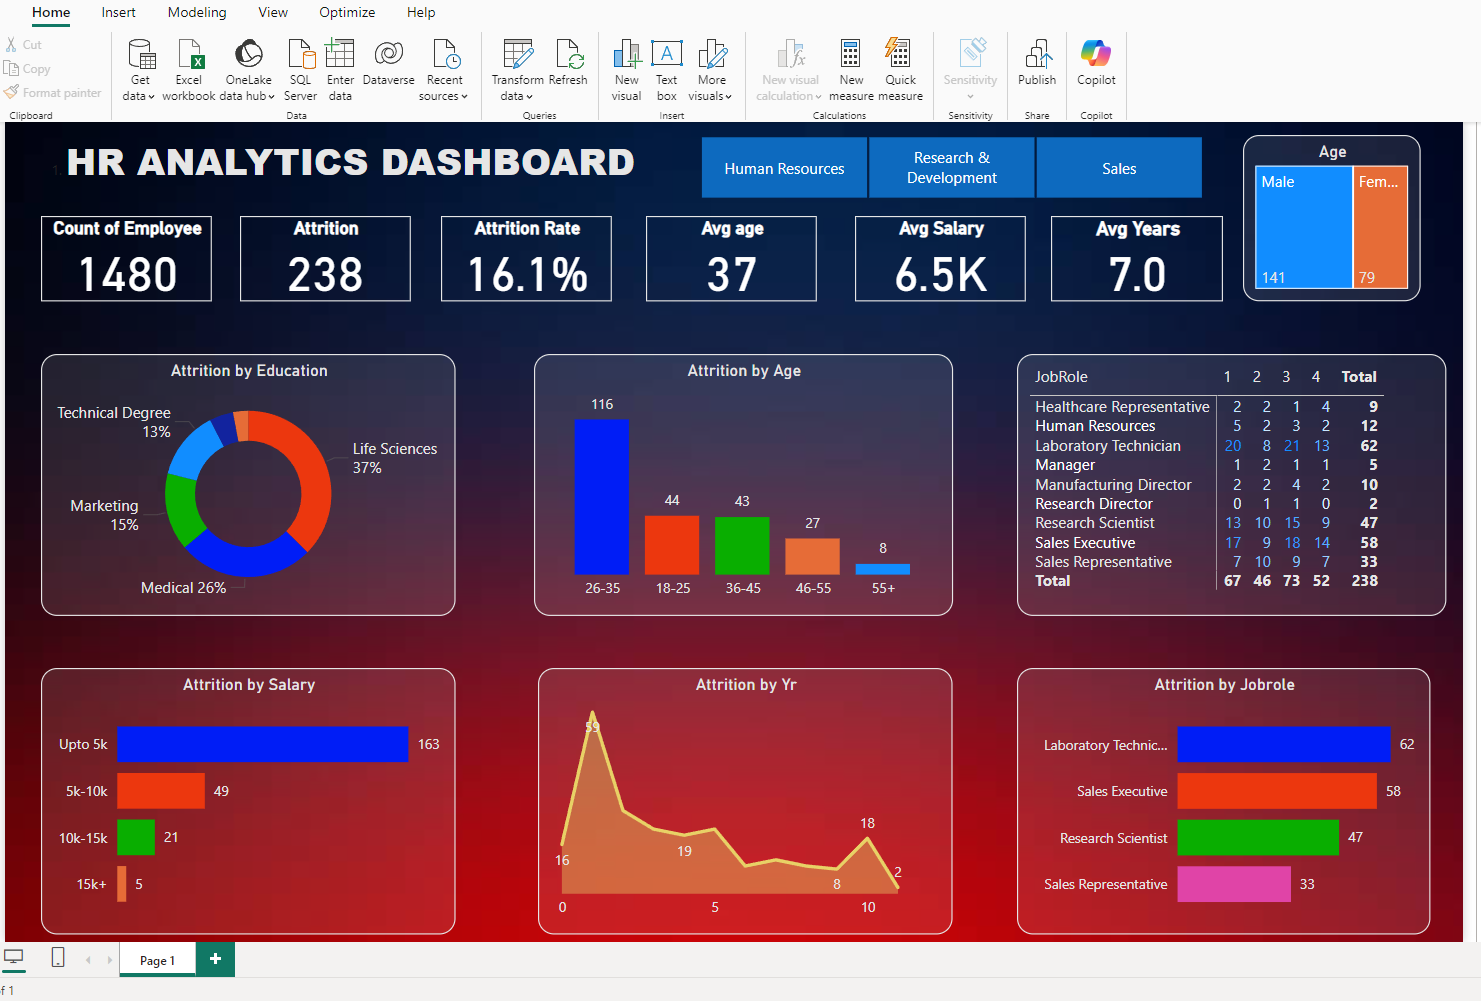

Layout of this report page (visuals, bound fields, positions):
{"tool":"powerbi","page":{"name":"Page 1","canvas":[1280,720],"ordinal":0},"visuals":[{"type":"card","title":"Count of Employee","fields":{"Values":["CountNonNull(HR_Analytics.EmpID)"]},"box":[31.5,82.9,150.4,74.8],"z":0},{"type":"card","title":"Attrition","fields":{"Values":["Sum(HR_Analytics.AttritionCount)"]},"box":[206.3,82.9,149.5,74.8],"z":1000},{"type":"card","title":"Attrition Rate","fields":{"Values":["HR_Analytics.AttriotionRate"]},"box":[383.1,82.7,150.2,74.6],"z":2000},{"type":"card","title":"Avg age ","fields":{"Values":["Avg(HR_Analytics.Age)"]},"box":[563,82.9,150.4,74.8],"z":3000},{"type":"card","title":"Avg Salary ","fields":{"Values":["Avg(HR_Analytics.MonthlyIncome)"]},"box":[746.8,82.7,150.2,74.6],"z":4000},{"type":"card","title":"Avg Years","fields":{"Values":["Avg(HR_Analytics.YearsAtCompany)"]},"box":[918.4,82.7,151.2,74.6],"z":5000},{"type":"donutChart","title":"Attrition by Education","fields":{"Category":["HR_Analytics.EducationField"],"Y":["Sum(HR_Analytics.AttritionCount)"]},"box":[31.5,203.6,363.9,229.7],"z":6000},{"type":"columnChart","title":"Attrition by Age","fields":{"Category":["HR_Analytics.AgeGroup"],"Y":["Sum(HR_Analytics.AttritionCount)"]},"box":[464.8,203.6,367.5,229.7],"z":7000},{"type":"pivotTable","fields":{"Rows":["HR_Analytics.JobRole"],"Columns":["HR_Analytics.JobSatisfaction"],"Values":["Sum(HR_Analytics.AttritionCount)"]},"box":[888.2,203.6,376.5,229.7],"z":8000},{"type":"barChart","title":"Attrition by Salary","fields":{"Category":["HR_Analytics.SalarySlab"],"Y":["Sum(HR_Analytics.AttritionCount)"]},"box":[31.7,479.1,363.7,233.9],"z":9000},{"type":"barChart","title":"Attrition by Jobrole","fields":{"Y":["Sum(HR_Analytics.AttritionCount)"],"Category":["HR_Analytics.JobRole"]},"box":[888.2,479.2,363,234.2],"z":10000},{"type":"areaChart","title":"Attrition by Yr","fields":{"Category":["HR_Analytics.YearsAtCompany"],"Y":["Sum(HR_Analytics.AttritionCount)"]},"box":[468.4,479.2,363.9,234.2],"z":11000},{"type":"treemap","title":"Age","fields":{"Group":["HR_Analytics.Gender"],"Values":["Sum(HR_Analytics.AttritionCount)"]},"box":[1087.2,11.7,155.8,145.9],"z":12000},{"type":"slicer","fields":{"Values":["HR_Analytics.Department"]},"box":[590.9,11.7,479.2,56.7],"z":13000},{"type":"textbox","box":[31.5,8.1,559.4,60.4],"z":14000}]}

Visuals, with their boxes on the page's 1280x720 design canvas (x1, y1, x2, y2). These are canvas units, not pixel positions in the 1481x1001 screenshot, which may show the page scaled, cropped or inside an application window:
"Count of Employee" card: bbox=[32, 83, 182, 158]
"Attrition" card: bbox=[206, 83, 356, 158]
"Attrition Rate" card: bbox=[383, 83, 533, 157]
"Avg age " card: bbox=[563, 83, 713, 158]
"Avg Salary " card: bbox=[747, 83, 897, 157]
"Avg Years" card: bbox=[918, 83, 1070, 157]
"Attrition by Education" donutChart: bbox=[32, 204, 395, 433]
"Attrition by Age" columnChart: bbox=[465, 204, 832, 433]
pivotTable - HR_Analytics.JobRole x HR_Analytics.JobSatisfaction: bbox=[888, 204, 1265, 433]
"Attrition by Salary" barChart: bbox=[32, 479, 395, 713]
"Attrition by Jobrole" barChart: bbox=[888, 479, 1251, 713]
"Attrition by Yr" areaChart: bbox=[468, 479, 832, 713]
"Age" treemap: bbox=[1087, 12, 1243, 158]
slicer - HR_Analytics.Department: bbox=[591, 12, 1070, 68]
textbox: bbox=[32, 8, 591, 68]
